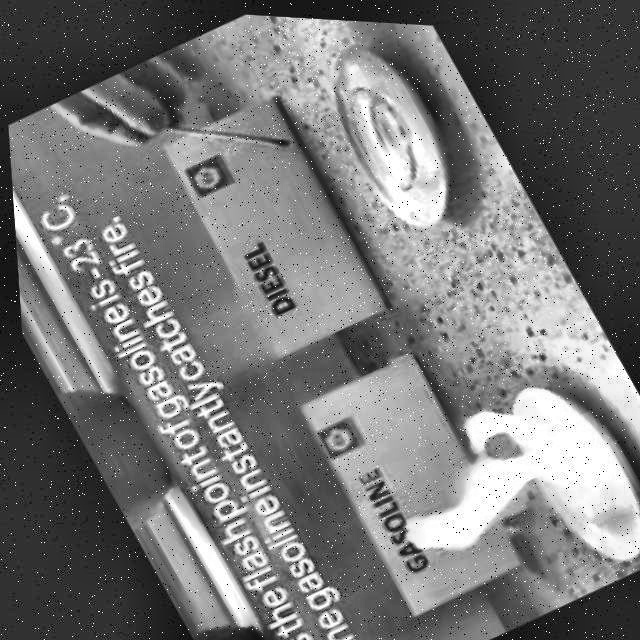Fire: (343, 359, 618, 589)
